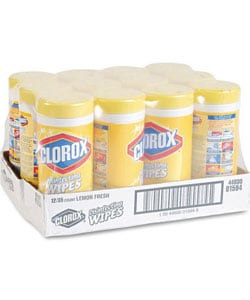Wipes: (17, 77, 77, 236), (33, 90, 95, 233), (6, 69, 58, 234), (94, 86, 143, 229), (193, 78, 240, 216), (143, 83, 189, 221), (70, 73, 124, 100), (122, 70, 171, 98), (57, 63, 107, 86), (167, 69, 220, 90), (144, 58, 192, 81), (102, 61, 150, 83)
